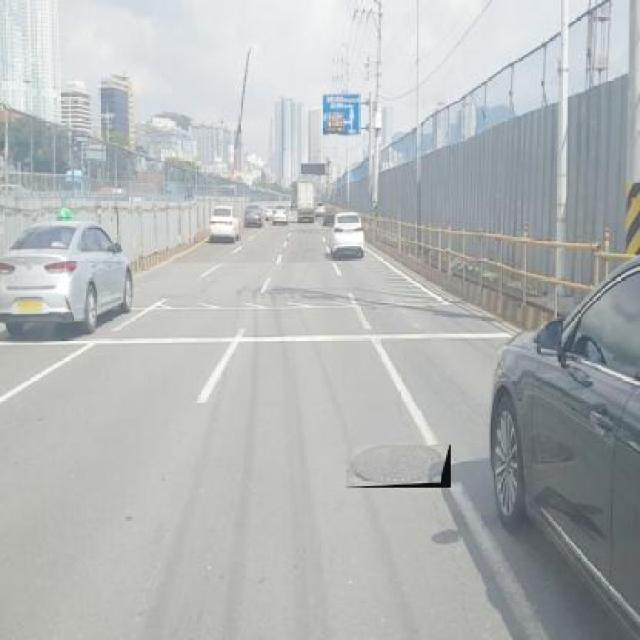Manhole: (346, 444, 452, 488)
